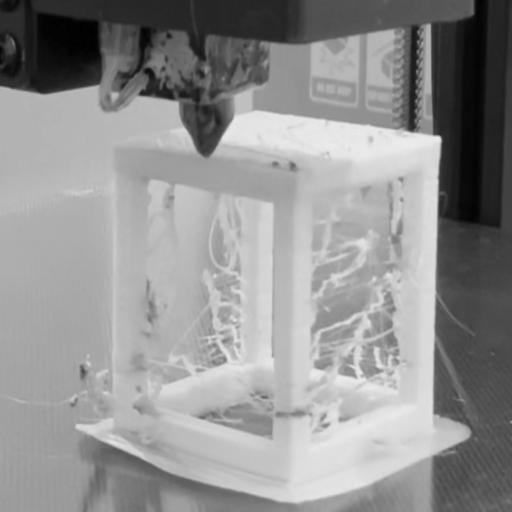spaghetti_and_stringing: (149, 178, 282, 437), (310, 208, 414, 434), (84, 348, 140, 418)
warp: (67, 420, 264, 507)
